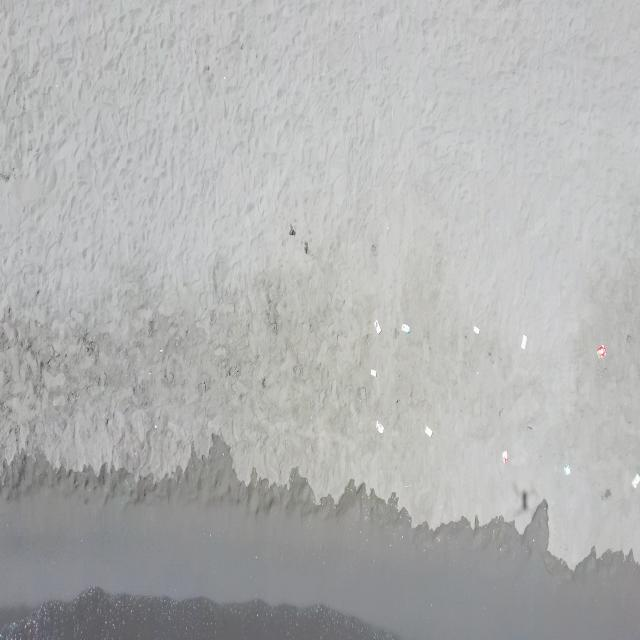Garbage: (597, 344, 606, 357), (520, 333, 527, 348), (632, 473, 639, 487), (375, 420, 383, 432), (603, 488, 611, 499), (288, 223, 295, 235), (373, 320, 380, 332), (424, 426, 432, 436), (563, 464, 569, 475), (502, 450, 507, 463), (400, 324, 408, 332), (303, 240, 307, 252), (369, 368, 375, 376), (473, 326, 479, 332), (403, 484, 411, 487), (527, 424, 532, 428), (475, 369, 476, 373), (155, 424, 156, 428)
